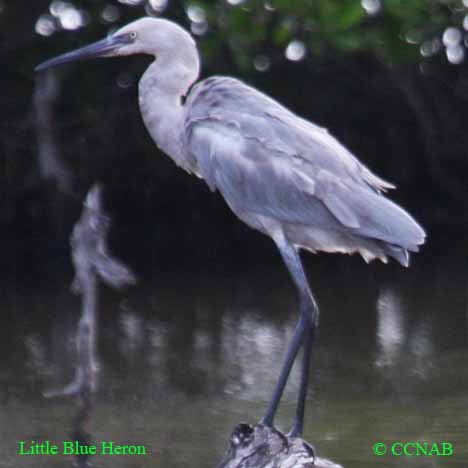heron: (34, 15, 431, 436)
